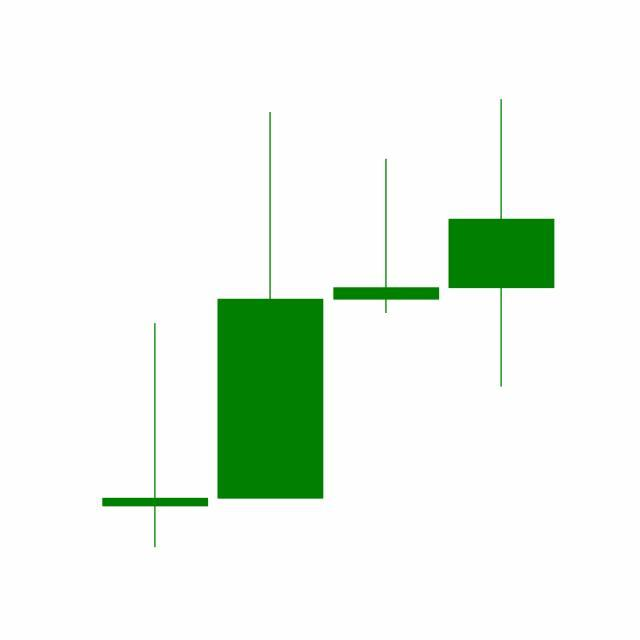Spinning Top: (444, 97, 560, 391)
